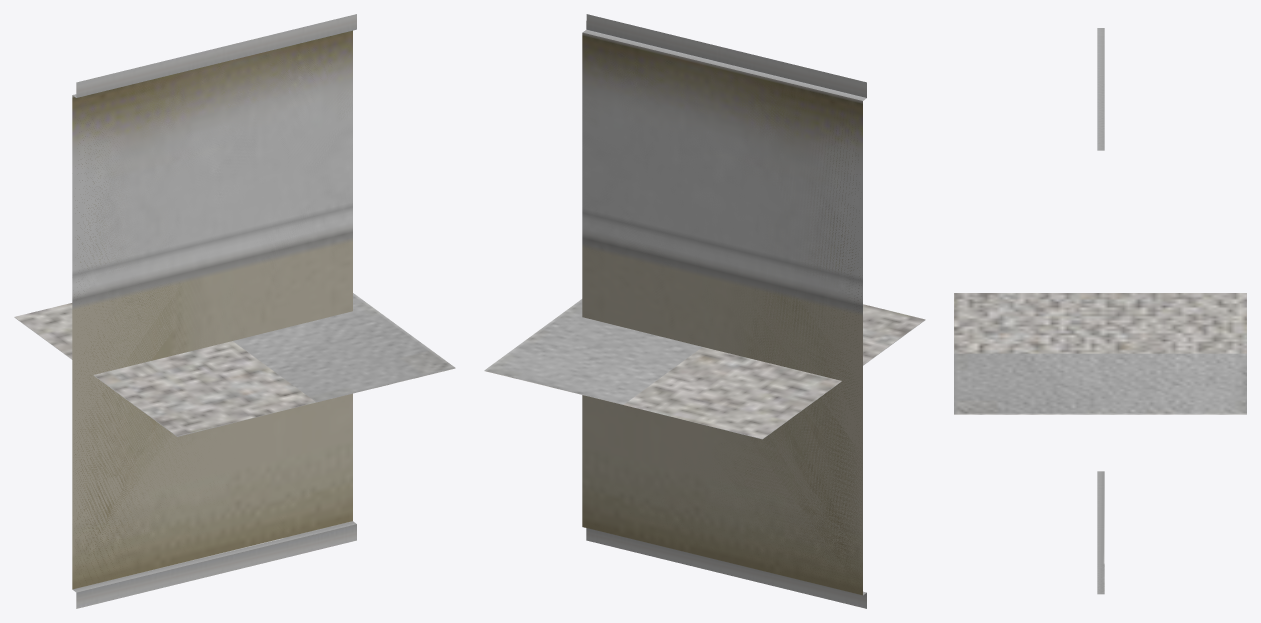
File: House_interior_Objects_V1.fbx
3 renders of one model, left to right at view 1: azimuth 30°, elevation 25°; view 2: azimuth 150°, elevation 25°; view 3: azimuth 270°, elevation 25°, orthographic. The views are drawn at different scales.
Parts seen in each view (by area): view 1: Plane, Plane.007, Plane.001, Plane.005; view 2: Plane, Plane.007, Plane.001, Plane.005; view 3: Plane.001, Plane.005, Plane, Plane.007.
Boxes of the visible parts, <box> form: Plane: <box>72,16,356,608</box>; Plane.007: <box>75,14,356,607</box>; Plane.001: <box>15,303,455,436</box>; Plane.005: <box>14,293,455,436</box>; Plane: <box>582,14,866,608</box>; Plane.007: <box>582,30,863,606</box>; Plane.001: <box>485,304,925,438</box>; Plane.005: <box>484,299,925,439</box>; Plane.001: <box>954,293,1246,414</box>; Plane.005: <box>954,353,1246,414</box>; Plane: <box>1097,28,1104,594</box>; Plane.007: <box>1097,478,1103,594</box>.
Size of the model in its own units: 157 by 264 by 148.
